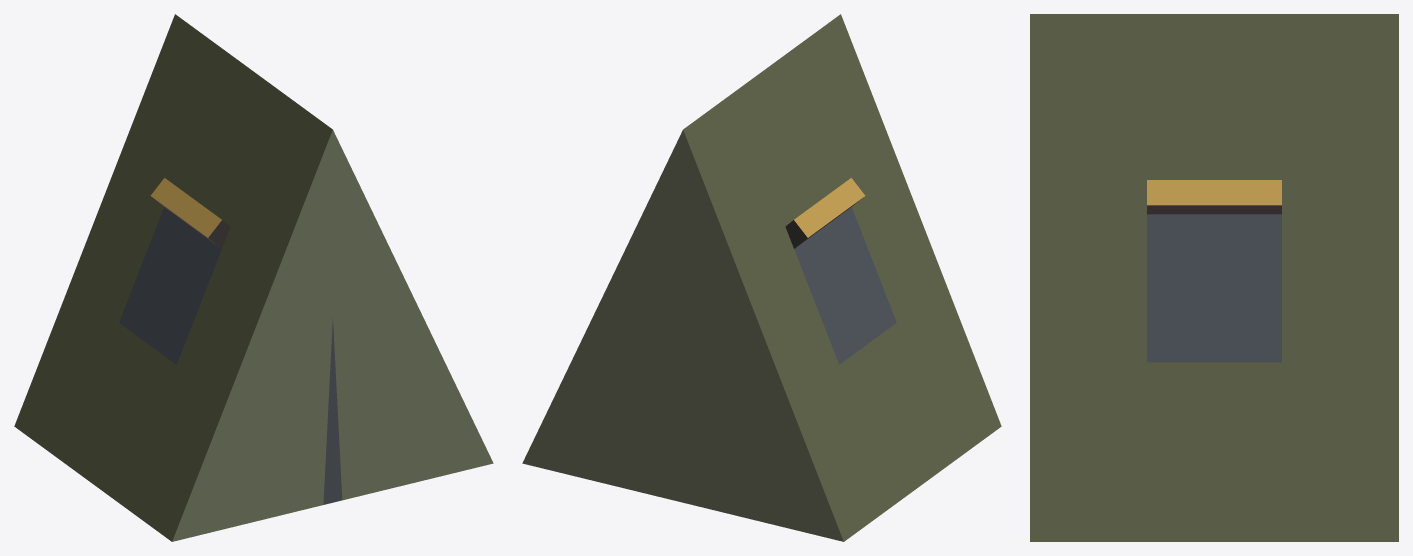
The model's file is TB_D_Prop_Tent_C.FBX.
The picture shows the model from 3 angles, left to right: view 1: azimuth 30°, elevation 25°; view 2: azimuth 150°, elevation 25°; view 3: azimuth 270°, elevation 25°; orthographic projection. The views are drawn at different scales.
Parts seen in each view (by area): view 1: TB_D_Prop_Tent_C; view 2: TB_D_Prop_Tent_C; view 3: TB_D_Prop_Tent_C.
Boxes of the visible parts, bbox=[...] form: TB_D_Prop_Tent_C: bbox=[14, 14, 493, 541]; TB_D_Prop_Tent_C: bbox=[522, 14, 1001, 541]; TB_D_Prop_Tent_C: bbox=[1030, 14, 1398, 541].
Size of the model in its own units: 2.86 by 3.17 by 2.43.
